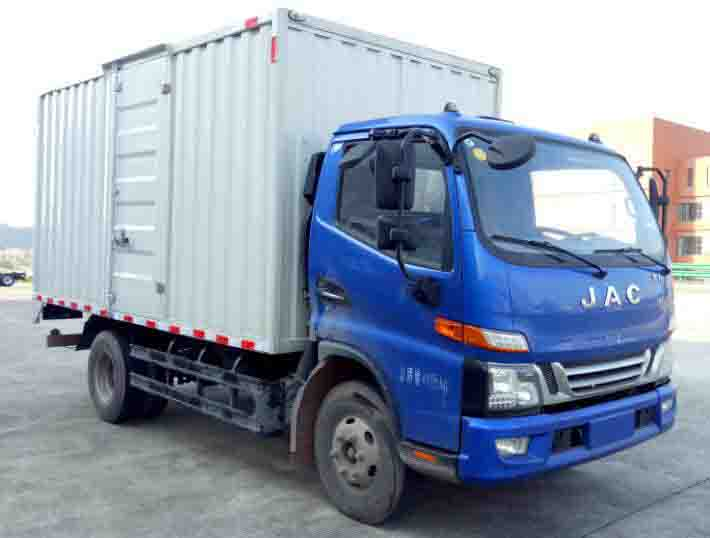smalltruck: (24, 15, 679, 524)
